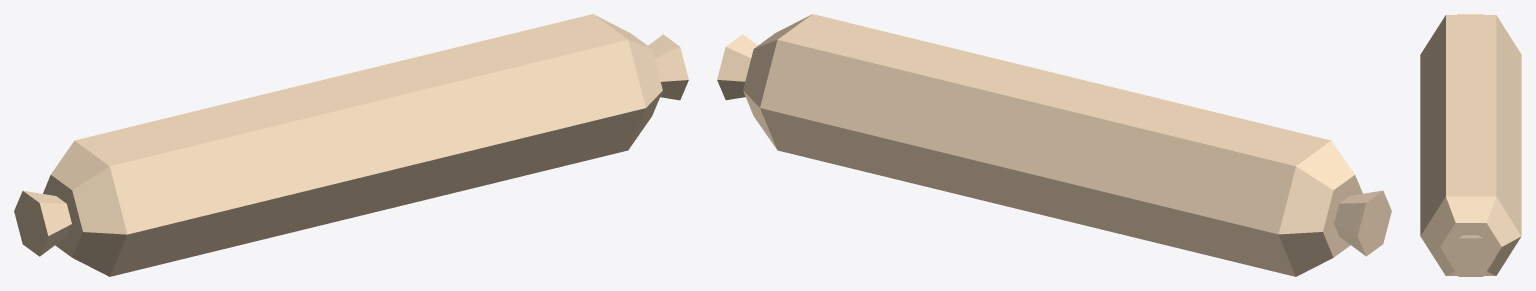
3 views of the same model, side by side, from view 1: azimuth 30°, elevation 25°; view 2: azimuth 150°, elevation 25°; view 3: azimuth 270°, elevation 25° (orthographic). The views are drawn at different scales.
Parts seen in each view (by area): view 1: hotDogRaw; view 2: hotDogRaw; view 3: hotDogRaw.
Boxes of the visible parts, x1,y1,x2,y2 form: hotDogRaw: (14, 14, 688, 276); hotDogRaw: (717, 14, 1391, 276); hotDogRaw: (1420, 14, 1521, 276).
Bounding box in the file's own units: 0.5859 × 0.0967 × 0.1116.
